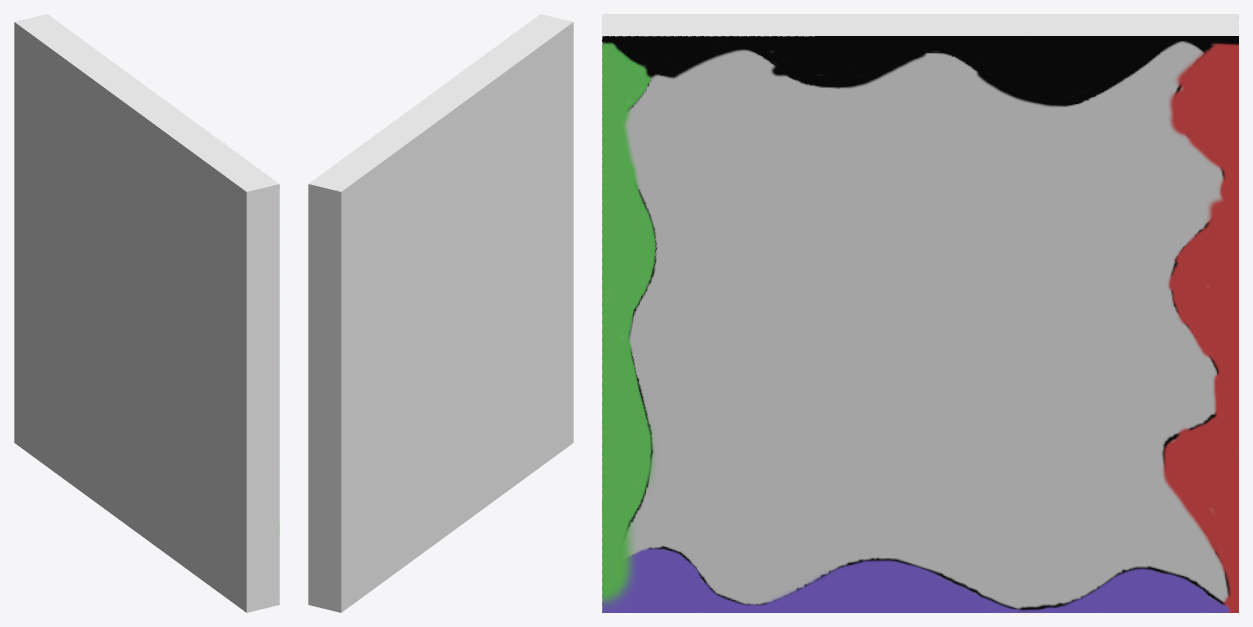
File: UI背景2.fbx
3 views of the same model, side by side, from view 1: azimuth 30°, elevation 25°; view 2: azimuth 150°, elevation 25°; view 3: azimuth 270°, elevation 25° (orthographic). The views are drawn at different scales.
Visible parts, largest first — view 1: Cube; view 2: Cube; view 3: Cube.
Boxes of the visible parts, x1,y1,x2,y2 form: Cube: [14, 14, 279, 612]; Cube: [308, 14, 573, 612]; Cube: [602, 14, 1238, 612].
Size of the model in its own units: 0.7657 by 9.4 by 9.4.
1 material, 1 textured.
